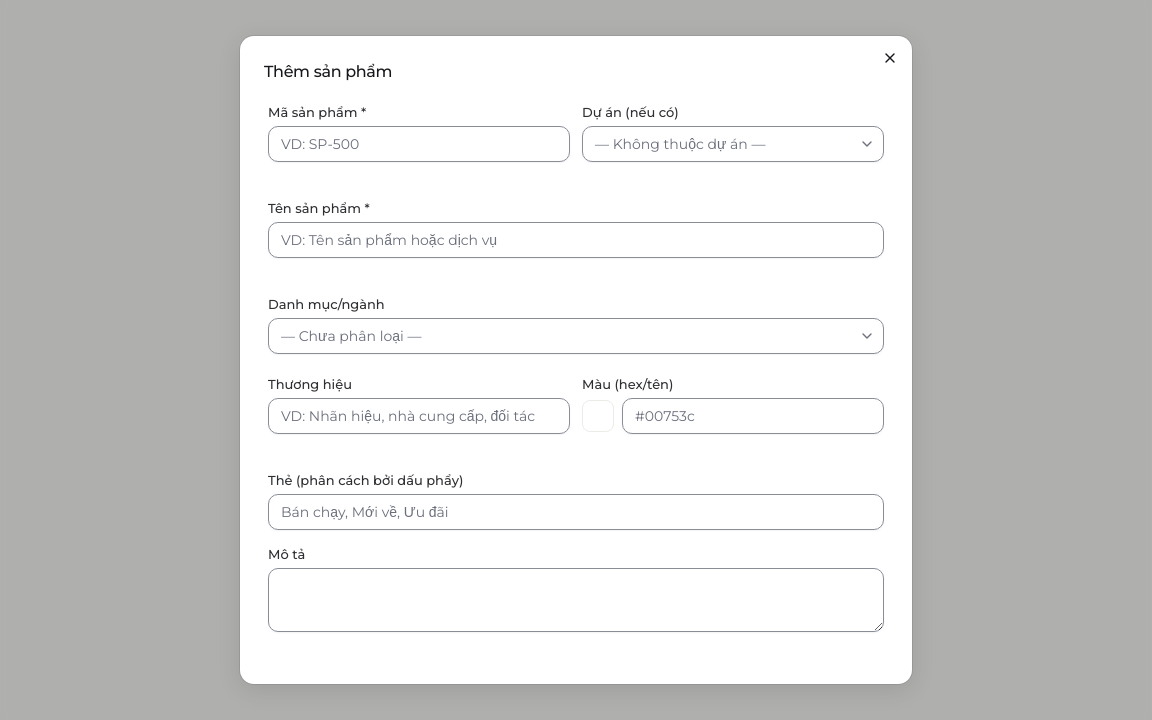
Scenario: ProductFormDialog — render trường động theo danh mục › chọn danh mục → hiện đủ field động của danh mục đó (required đánh dấu *)
This screenshot has width=1152, height=720.
Click the dropdown named "Danh mục/ngành" at (351,336), box [268,318,884,354]
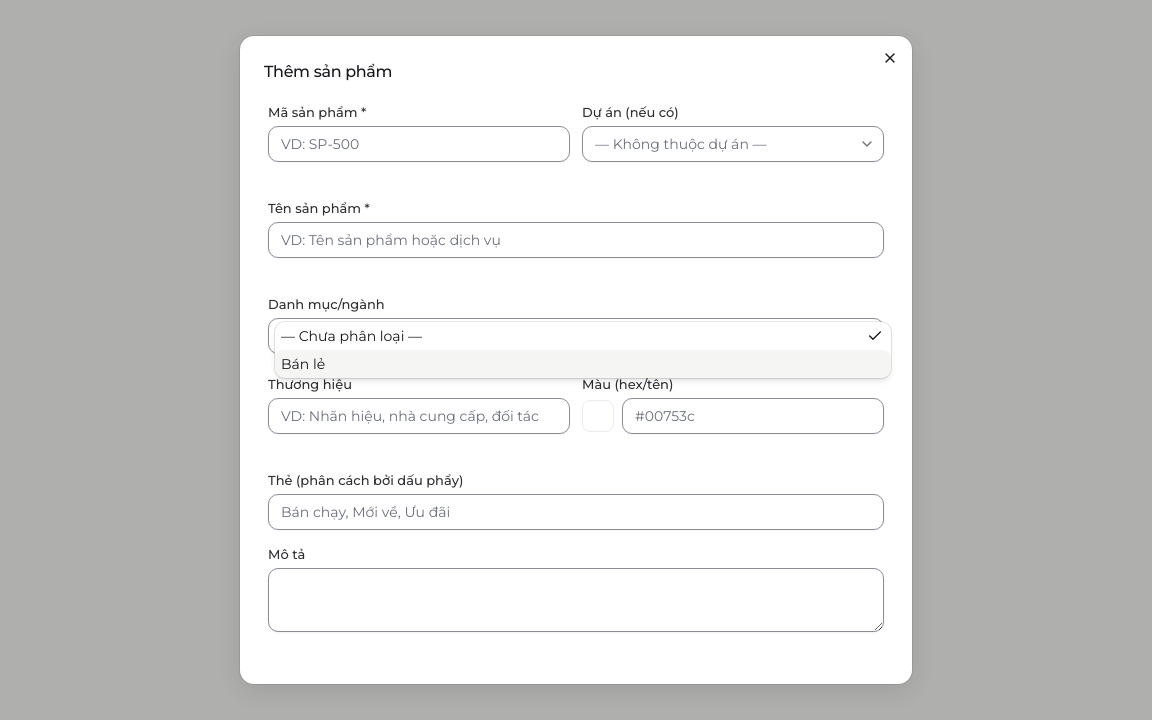
Press the mouse on the option "Bán lẻ" at (303,364), box [275,350,891,378]
Click the option "Bán lẻ" at (303,364), box [275,350,891,378]
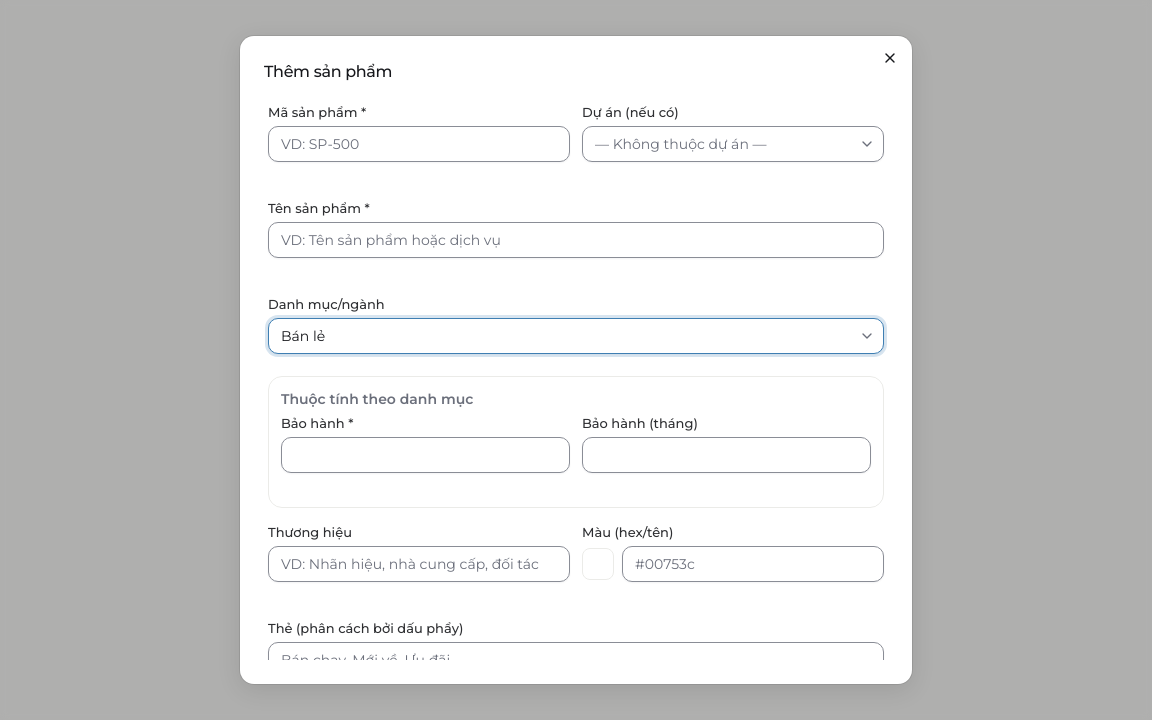
Check: the field labelled "Bảo hành *" is shown, box [281,437,570,473]
Check: the number field labelled "Bảo hành (tháng)" is shown, box [582,437,871,473]
